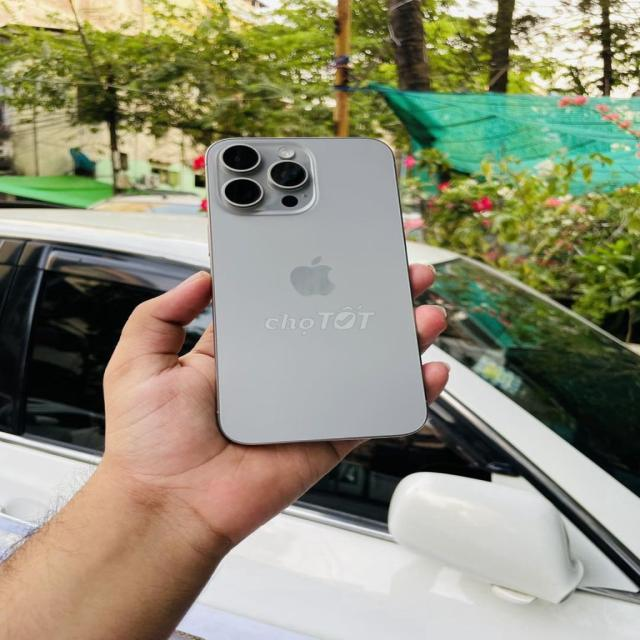gen_15: (194, 128, 446, 462)
